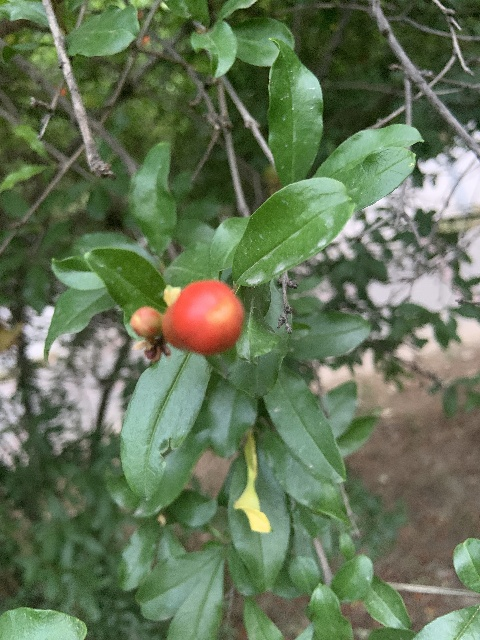bud: (162, 280, 243, 356), (130, 305, 162, 339)
